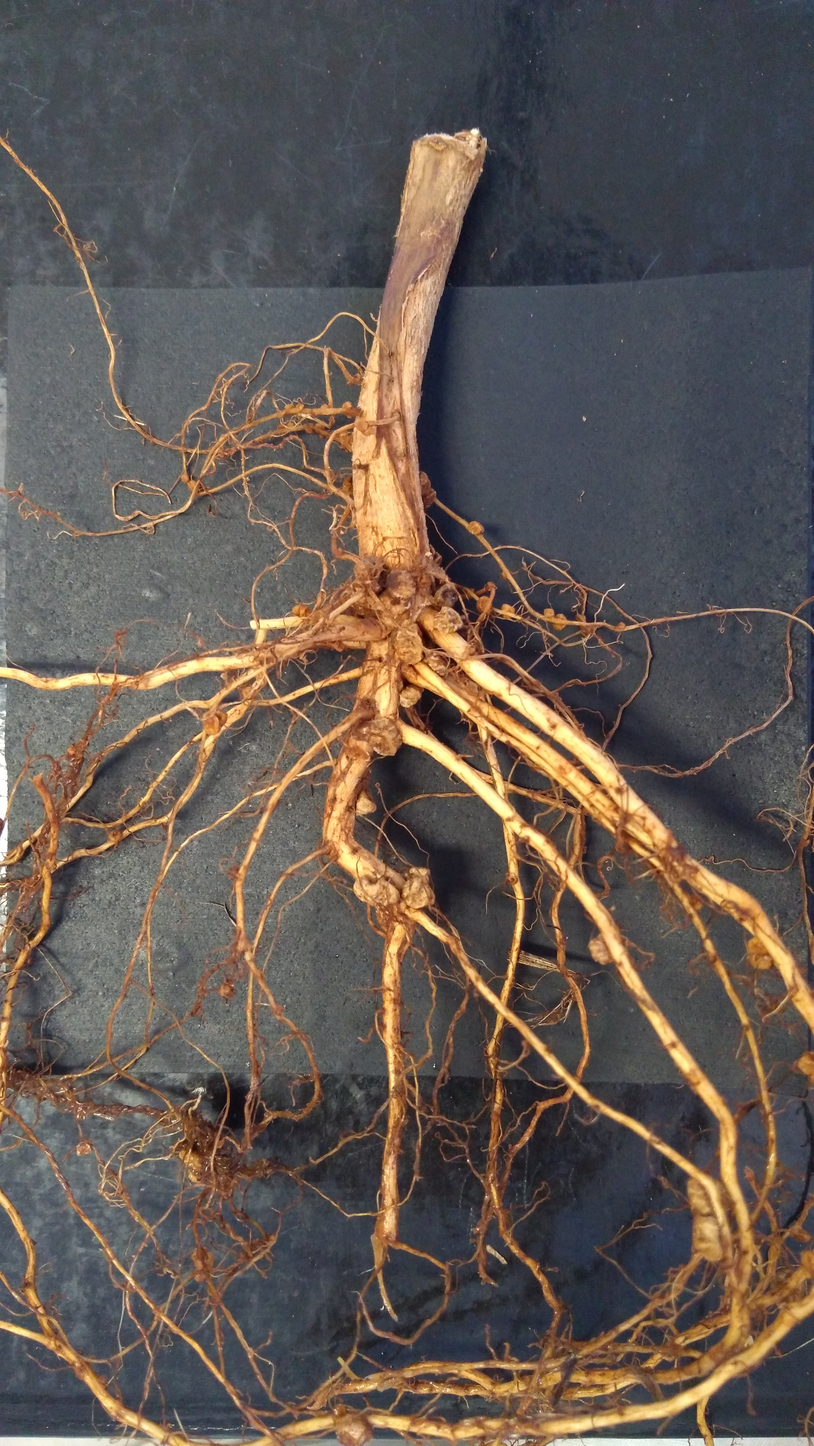nodule: (353, 716, 405, 762), (686, 1213, 729, 1267), (683, 1172, 733, 1217), (347, 874, 400, 915), (394, 618, 427, 666), (742, 933, 777, 975), (330, 1415, 376, 1445), (400, 878, 439, 913), (586, 929, 617, 970), (416, 466, 438, 515), (432, 604, 465, 636), (385, 568, 418, 600), (420, 648, 449, 678), (354, 788, 382, 818), (199, 709, 230, 736), (398, 681, 423, 710), (433, 581, 459, 608), (796, 1042, 814, 1079), (191, 1248, 215, 1269), (338, 473, 356, 500), (216, 980, 238, 1001), (466, 519, 488, 538), (476, 594, 494, 616), (552, 611, 569, 634), (289, 602, 311, 618), (501, 602, 517, 621), (341, 399, 354, 420), (106, 828, 123, 844), (354, 418, 369, 434), (240, 686, 254, 700), (362, 425, 377, 438), (542, 606, 555, 619), (194, 1270, 207, 1282), (314, 421, 325, 434), (188, 479, 199, 492), (615, 620, 629, 630), (304, 423, 314, 434), (180, 473, 189, 484), (295, 402, 304, 411), (284, 403, 295, 410), (320, 404, 330, 409), (286, 421, 294, 427)
